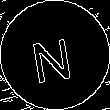N_N: (31, 27, 79, 83)
